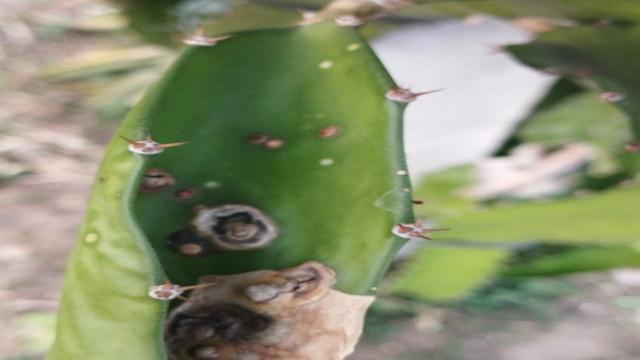stemcanker: (304, 35, 366, 83), (164, 228, 210, 258), (76, 217, 100, 258), (391, 165, 414, 200), (248, 131, 287, 151), (144, 165, 176, 188), (205, 168, 230, 196), (315, 158, 342, 180), (316, 122, 343, 140), (174, 186, 198, 200)
